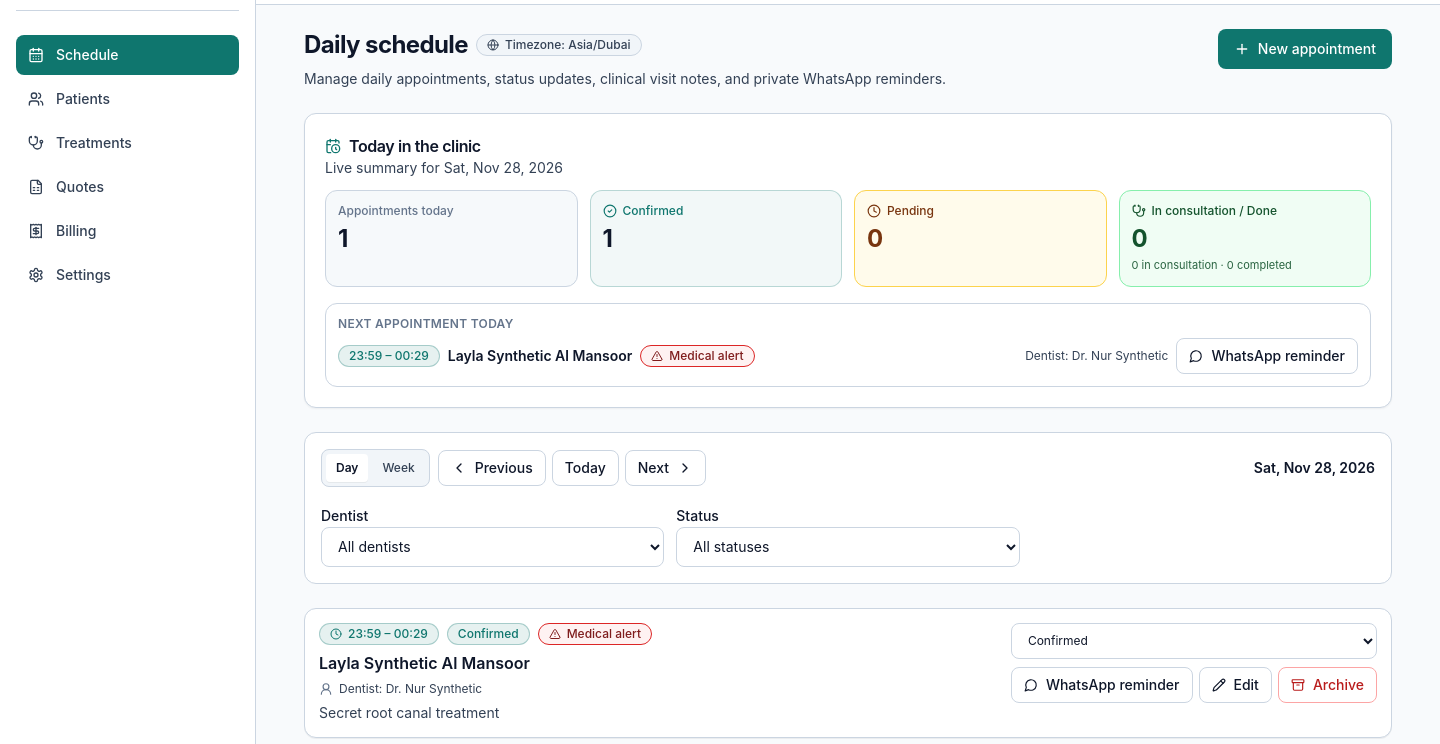
Scenario: T-08 Schedule, Daily Summary Panel & Clinical Notes UI Flow › 7. T-09: sends zero-clinical-data WhatsApp reminders from AppointmentCard and TodaySummaryPanel, handles popup-blocked fallback and save errors
Click the button "WhatsApp reminder" below "0 in consultation · 0 completed".
click(1267, 356)  # box [1176, 338, 1358, 374]
(page scrolled)
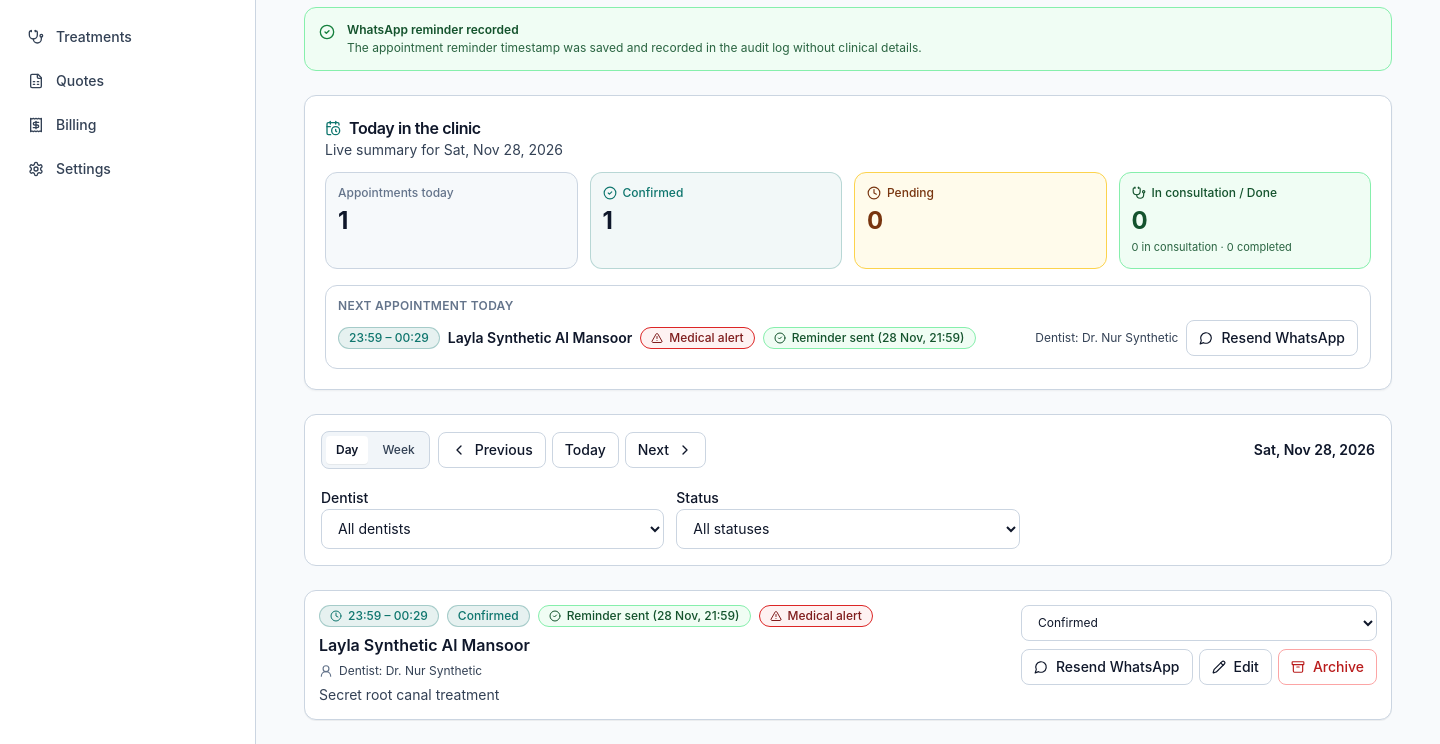
Expected: the text "WhatsApp reminder recorded" is shown, [347, 22, 519, 37]
Expected: the text "Reminder sent (28 Nov, 21:59)" below "0 in consultation · 0 completed" is shown, [792, 330, 964, 344]
Note: Second button belongs to AppointmentCard (first is TodaySummaryPanel)
Click the 2nd button "Resend WhatsApp".
click(1107, 666)  # box [1021, 648, 1192, 684]
(page scrolled)
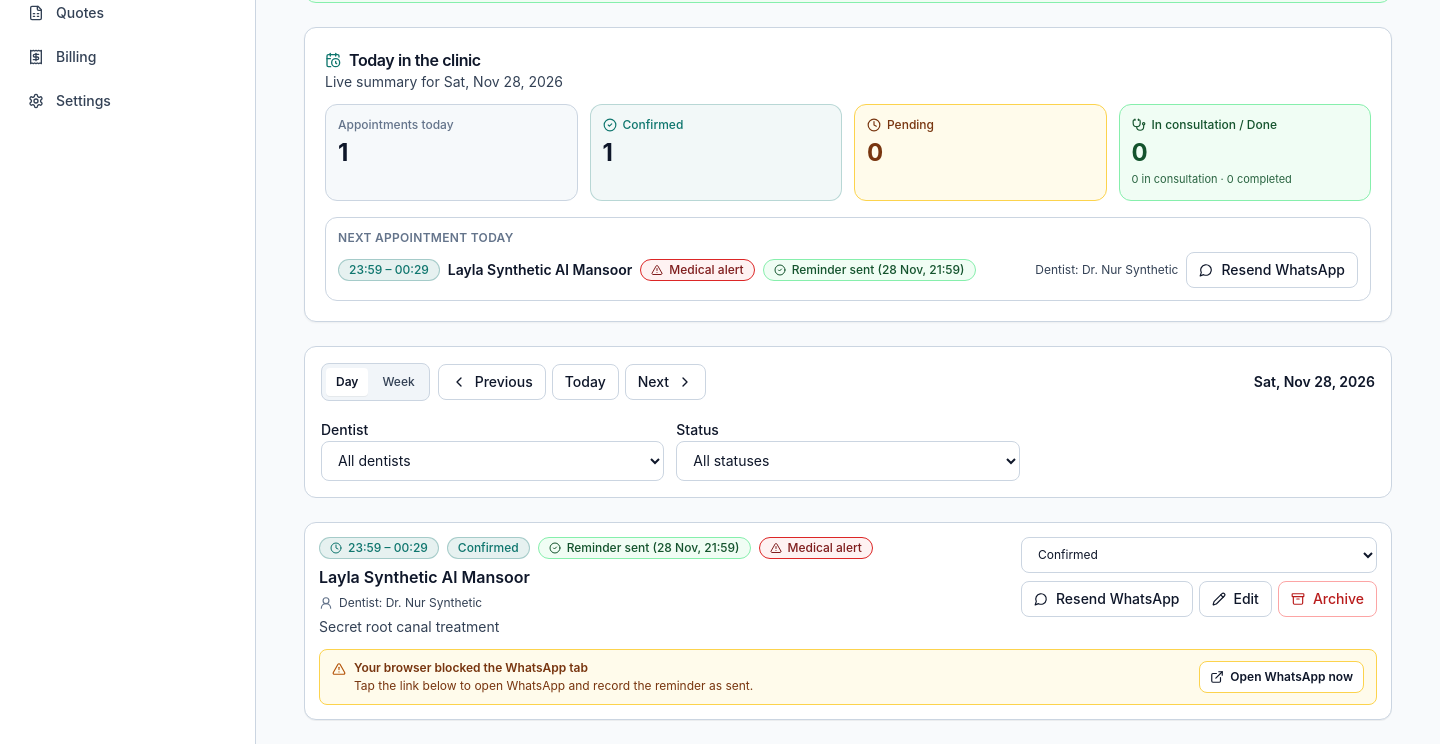
Expected: the text "Your browser blocked the WhatsApp tab" is shown, [354, 660, 588, 674]
Note: Clicking the direct link marks the reminder as sent
Click the link "Open WhatsApp now".
click(1282, 676)  # box [1199, 660, 1364, 692]
(page scrolled)
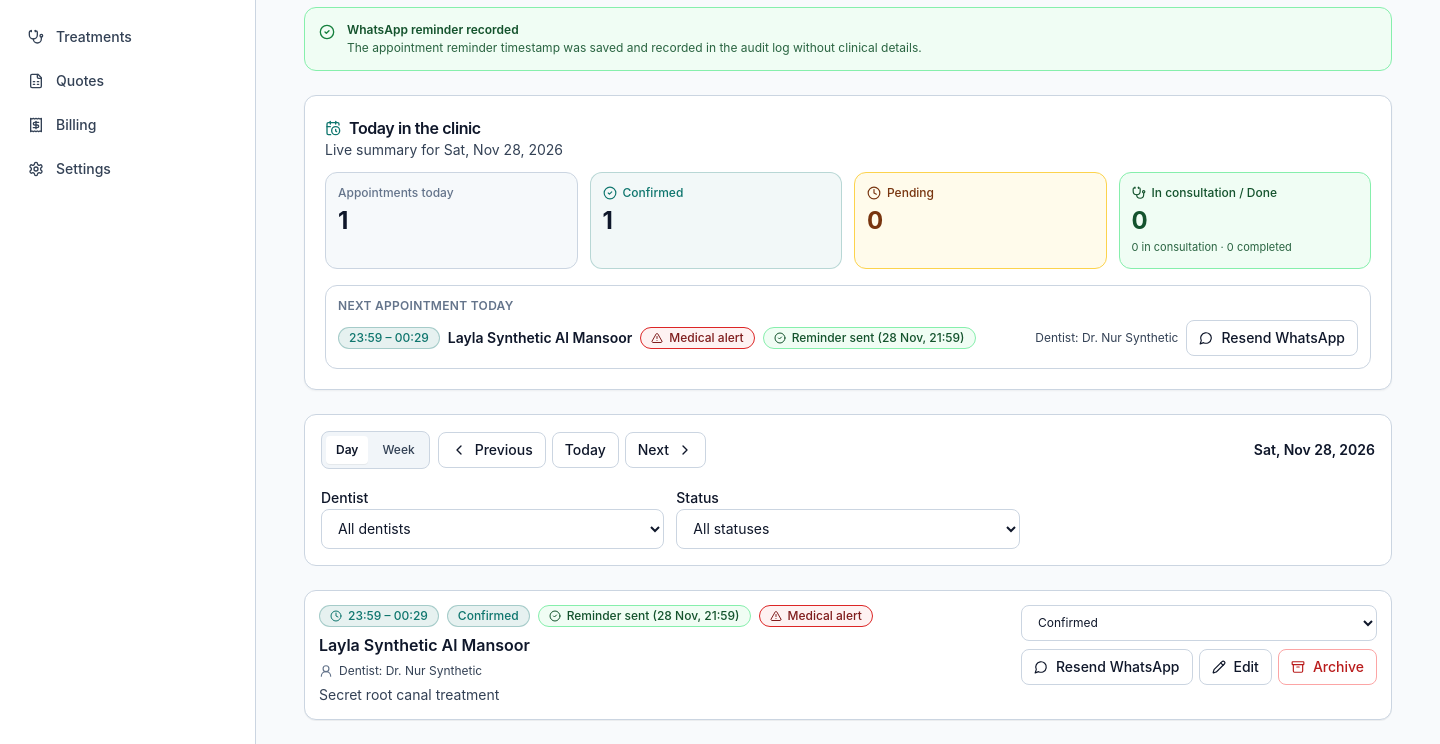
Click the 2nd button "Resend WhatsApp".
click(1107, 666)  # box [1021, 648, 1192, 684]
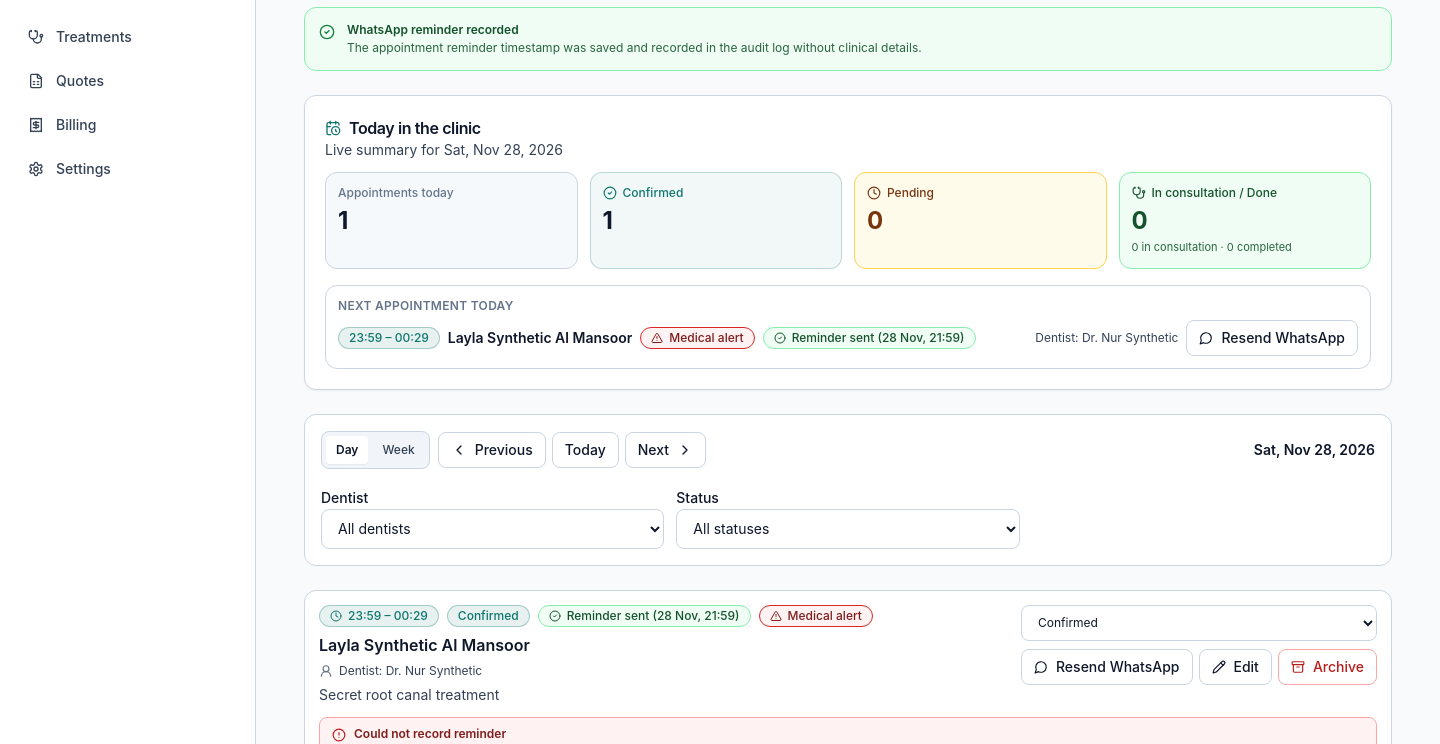
Expected: the text "Could not record reminder" is shown, [354, 726, 506, 740]
